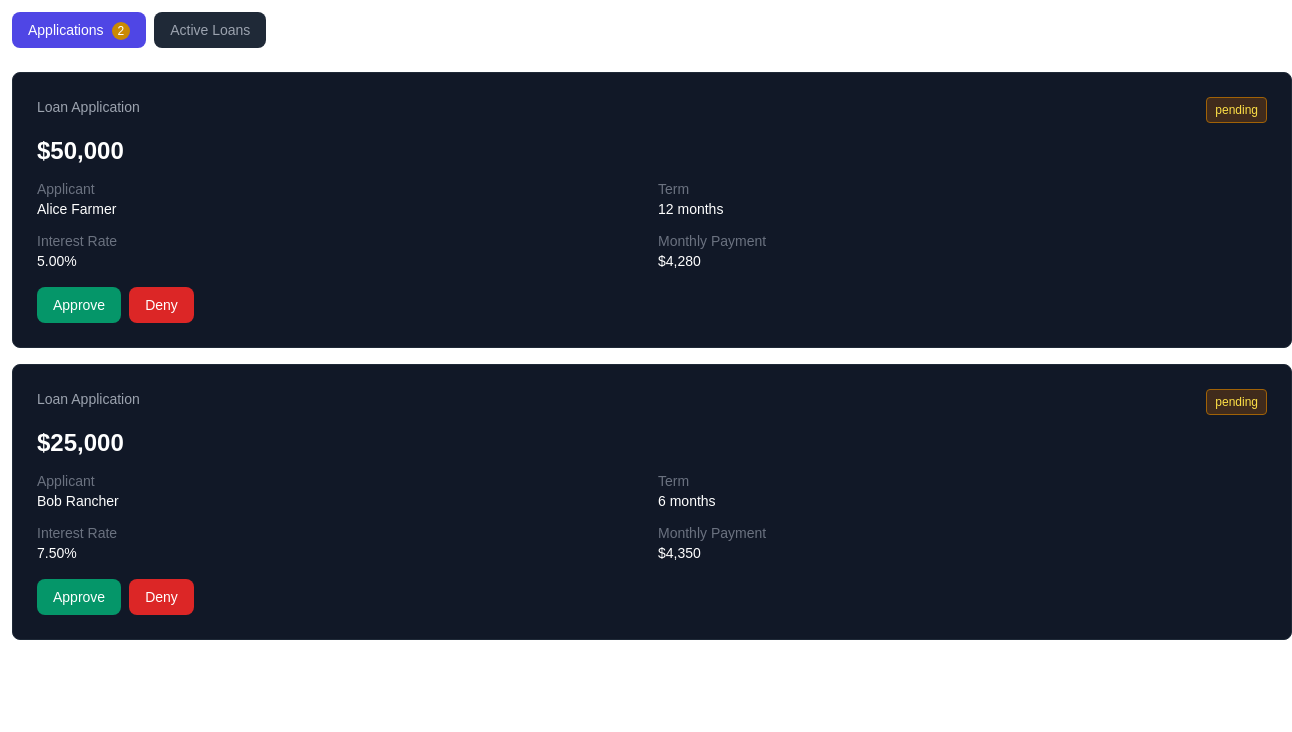
Test: BankOwnerPanel › switches to Active Loans tab and shows loan data
This screenshot has width=1292, height=732.
Expected: the text "Alice Farmer" is shown, [37,201,116,217]
Click the button "Active Loans" at (210, 30), box [154,12,266,48]
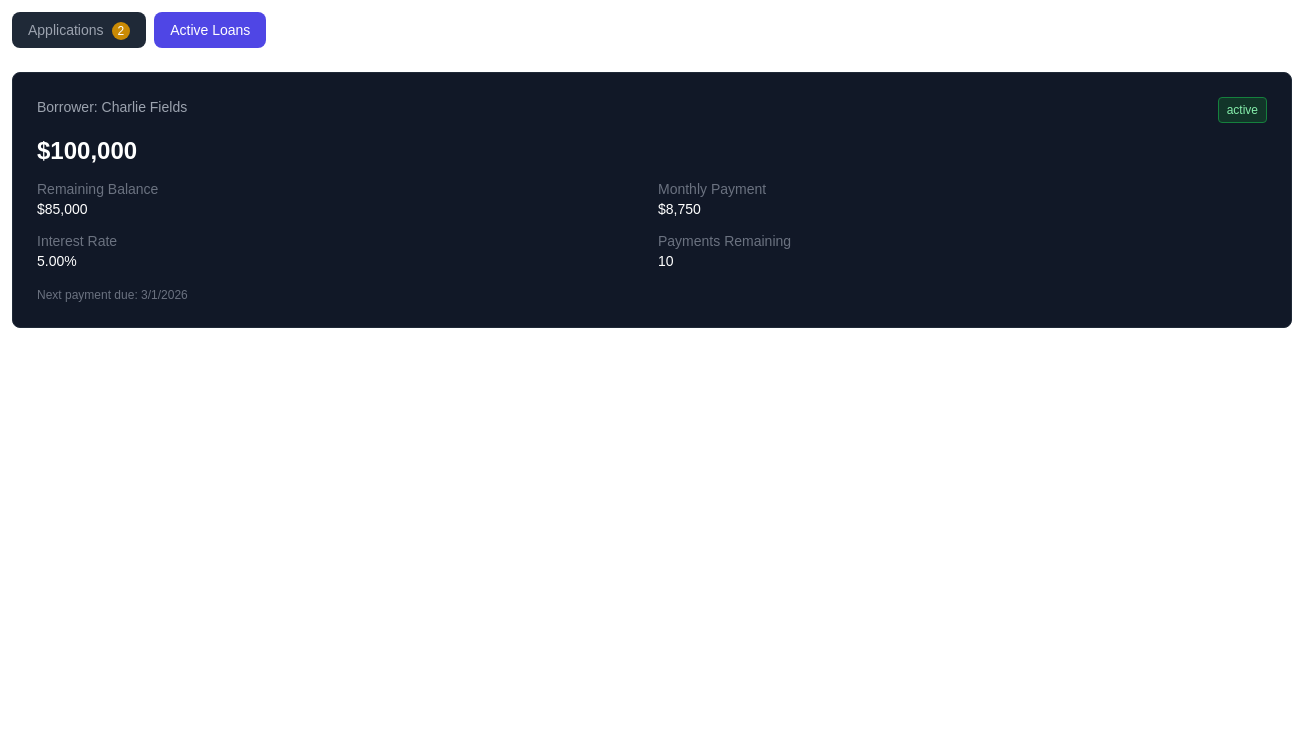
Expected: the heading "Borrower: Charlie Fields" is shown, [37,97,187,117]
Expected: the text "$100,000" is shown, [37,137,137,164]
Expected: the text "$85,000" is shown, [37,201,88,217]
